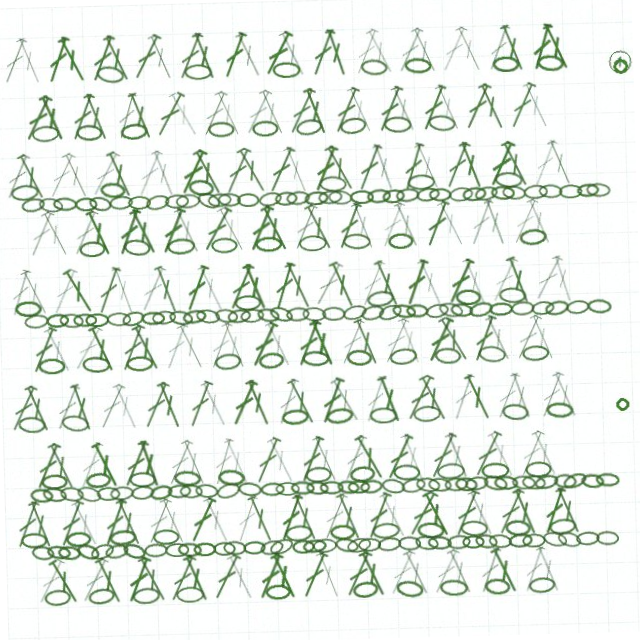chain: (102, 59, 132, 79), (300, 117, 329, 137), (58, 407, 87, 427), (388, 581, 417, 601), (268, 303, 295, 324), (557, 477, 584, 498), (83, 535, 110, 556), (262, 535, 289, 556), (344, 117, 373, 136), (388, 349, 417, 368), (80, 581, 109, 600), (199, 187, 225, 208), (69, 535, 95, 556), (377, 304, 404, 324), (71, 478, 98, 498), (550, 536, 577, 556), (433, 117, 461, 136), (191, 175, 219, 194), (125, 233, 153, 252), (367, 291, 395, 310), (477, 349, 505, 368), (323, 407, 351, 426), (14, 176, 43, 194), (498, 176, 527, 194), (432, 582, 461, 600), (211, 478, 237, 498), (115, 536, 141, 556), (345, 581, 372, 600), (367, 60, 395, 78), (543, 60, 571, 78), (213, 350, 241, 368), (433, 350, 461, 368), (15, 408, 43, 426), (499, 408, 527, 426), (169, 466, 197, 484), (213, 466, 241, 484), (411, 524, 439, 542), (543, 524, 571, 542), (125, 582, 153, 600), (521, 582, 549, 600), (342, 304, 368, 323), (438, 304, 464, 323), (468, 304, 494, 323), (478, 478, 504, 497), (536, 536, 562, 555), (366, 524, 395, 541), (103, 176, 130, 194), (257, 350, 284, 368), (345, 466, 372, 484), (499, 524, 526, 542), (477, 582, 504, 600), (125, 118, 153, 135), (389, 118, 417, 135), (169, 234, 197, 251), (345, 234, 373, 251), (521, 234, 549, 251), (499, 292, 527, 309), (81, 350, 109, 367), (543, 408, 571, 425), (433, 466, 461, 483), (103, 524, 131, 541), (279, 524, 307, 541), (121, 304, 146, 323), (41, 189, 67, 207), (148, 189, 174, 207), (168, 305, 194, 323), (360, 305, 386, 323), (544, 305, 570, 323), (376, 479, 402, 497), (396, 479, 422, 497), (529, 479, 555, 497), (98, 537, 124, 555), (253, 537, 279, 555), (328, 537, 354, 555), (340, 537, 366, 555), (411, 60, 438, 77), (37, 118, 64, 135), (81, 118, 108, 135), (323, 176, 350, 193), (301, 350, 328, 367), (345, 350, 372, 367), (279, 408, 306, 425), (411, 408, 438, 425), (81, 466, 108, 483), (301, 466, 328, 483), (389, 466, 416, 483), (455, 524, 482, 541), (37, 582, 64, 599), (91, 189, 116, 207), (261, 189, 286, 207), (477, 189, 502, 207), (256, 305, 281, 323), (425, 305, 450, 323), (144, 479, 169, 497), (191, 61, 219, 77), (279, 61, 307, 77), (411, 177, 439, 193), (301, 235, 329, 251), (367, 409, 395, 425), (477, 467, 505, 483), (169, 583, 197, 599), (195, 305, 221, 322), (391, 305, 417, 322), (37, 479, 63, 496), (408, 537, 434, 554), (499, 61, 526, 77), (213, 119, 240, 135), (257, 119, 284, 135), (81, 235, 108, 251), (213, 235, 240, 251), (257, 235, 284, 251), (15, 293, 42, 309), (235, 293, 262, 309), (37, 351, 64, 367), (125, 351, 152, 367), (521, 351, 548, 367), (37, 467, 64, 483), (125, 467, 152, 483), (521, 467, 548, 483), (15, 525, 42, 541), (147, 525, 174, 541), (24, 189, 49, 206), (419, 189, 444, 206), (182, 305, 207, 322), (214, 305, 239, 322), (55, 479, 80, 496), (233, 479, 258, 496), (411, 479, 436, 496), (460, 479, 485, 496), (40, 537, 65, 554), (468, 537, 493, 554), (390, 235, 416, 251), (456, 293, 482, 309), (60, 525, 86, 541), (324, 525, 350, 541), (258, 583, 284, 599), (25, 537, 49, 554), (307, 190, 332, 206), (331, 190, 356, 206), (452, 190, 477, 206), (465, 190, 490, 206), (505, 190, 530, 206), (24, 306, 49, 322), (59, 306, 84, 322), (227, 306, 252, 322), (240, 306, 265, 322), (302, 306, 327, 322), (105, 480, 130, 496), (423, 480, 448, 496), (507, 480, 532, 496), (517, 480, 542, 496), (171, 538, 196, 554), (296, 538, 321, 554), (371, 538, 396, 554), (421, 538, 446, 554), (385, 190, 409, 206), (450, 306, 474, 322), (531, 306, 555, 322), (566, 306, 590, 322), (25, 480, 49, 496), (126, 480, 150, 496), (190, 480, 214, 496), (301, 480, 325, 496), (332, 480, 356, 496), (355, 480, 379, 496), (450, 480, 474, 496), (576, 480, 600, 496), (51, 538, 75, 554), (482, 538, 506, 554), (112, 190, 137, 205), (289, 190, 314, 205), (321, 190, 346, 205), (589, 190, 614, 205), (587, 306, 612, 321), (489, 480, 514, 495), (502, 538, 527, 553), (56, 190, 80, 205), (168, 190, 192, 205), (179, 190, 203, 205), (211, 190, 235, 205), (370, 190, 394, 205), (399, 190, 423, 205), (494, 190, 518, 205), (527, 190, 551, 205), (542, 190, 566, 205), (152, 306, 176, 321), (286, 306, 310, 321), (511, 306, 535, 321), (163, 480, 187, 495), (286, 480, 310, 495), (549, 480, 573, 495), (591, 480, 615, 495), (307, 538, 331, 553), (441, 538, 465, 553), (570, 538, 594, 553), (221, 190, 244, 205), (278, 190, 301, 205), (580, 190, 603, 205), (46, 306, 69, 321), (406, 306, 429, 321), (217, 538, 240, 553), (392, 538, 415, 553), (590, 538, 613, 553), (353, 191, 377, 205), (562, 191, 586, 205), (73, 307, 97, 321), (85, 307, 109, 321), (107, 307, 131, 321), (141, 307, 165, 321), (322, 307, 346, 321), (489, 307, 513, 321), (92, 481, 116, 495), (256, 481, 280, 495), (271, 481, 295, 495), (315, 481, 339, 495), (440, 481, 464, 495), (138, 539, 162, 553), (159, 539, 183, 553), (516, 539, 540, 553), (78, 191, 101, 205), (131, 191, 154, 205), (240, 191, 263, 205), (432, 191, 455, 205), (175, 481, 198, 495), (343, 481, 366, 495), (187, 539, 210, 553), (207, 539, 230, 553), (237, 539, 260, 553), (286, 539, 309, 553), (352, 539, 375, 553), (456, 539, 479, 553)
double: (267, 28, 304, 77), (157, 86, 194, 135), (171, 86, 208, 135), (91, 144, 128, 193), (201, 202, 238, 251), (61, 260, 98, 309), (311, 260, 348, 309), (531, 260, 568, 309), (69, 318, 106, 367), (435, 318, 472, 367), (325, 376, 362, 425), (399, 492, 436, 541), (39, 550, 76, 599), (246, 86, 282, 136), (194, 144, 230, 194), (136, 28, 172, 77), (238, 144, 274, 193), (326, 144, 362, 193), (400, 376, 436, 425), (348, 434, 384, 483), (466, 434, 502, 483), (26, 550, 62, 599), (70, 550, 106, 599), (128, 550, 164, 599), (202, 550, 238, 599), (62, 28, 97, 78), (370, 28, 405, 78), (400, 28, 435, 78), (444, 28, 479, 78), (26, 86, 61, 136), (290, 86, 325, 136), (466, 86, 501, 136), (18, 144, 53, 194), (48, 144, 83, 194), (180, 144, 215, 194), (268, 144, 303, 194), (502, 144, 537, 194), (40, 202, 75, 252), (216, 202, 251, 252), (260, 202, 295, 252), (304, 202, 339, 252), (436, 202, 471, 252), (510, 202, 545, 252), (18, 260, 53, 310), (444, 260, 479, 310), (488, 260, 523, 310), (40, 318, 75, 368), (128, 318, 163, 368), (246, 318, 281, 368), (378, 318, 413, 368), (422, 318, 457, 368), (510, 318, 545, 368), (4, 376, 39, 426), (92, 376, 127, 426), (282, 376, 317, 426), (414, 376, 449, 426), (260, 434, 295, 484), (378, 434, 413, 484), (422, 434, 457, 484), (180, 492, 215, 542), (414, 492, 449, 542), (488, 492, 523, 542), (158, 550, 193, 600), (334, 550, 369, 600), (378, 550, 413, 600), (422, 550, 457, 600), (107, 28, 141, 78), (239, 28, 273, 78), (283, 28, 317, 78), (459, 28, 493, 78), (547, 28, 581, 78), (203, 86, 237, 136), (335, 86, 369, 136), (511, 86, 545, 136), (137, 144, 171, 194), (225, 144, 259, 194), (489, 144, 523, 194), (27, 202, 61, 252), (71, 202, 105, 252), (129, 202, 163, 252), (173, 202, 207, 252), (49, 260, 83, 310), (137, 260, 171, 310), (195, 260, 229, 310), (225, 260, 259, 310), (173, 318, 207, 368), (261, 318, 295, 368), (481, 318, 515, 368), (137, 376, 171, 426), (195, 376, 229, 426), (225, 376, 259, 426), (459, 376, 493, 426), (27, 434, 61, 484), (41, 434, 75, 484), (85, 434, 119, 484), (115, 434, 149, 484), (159, 434, 193, 484), (247, 434, 281, 484), (481, 434, 515, 484), (511, 434, 545, 484), (63, 492, 97, 542), (371, 492, 405, 542), (459, 492, 493, 542), (85, 550, 119, 600), (217, 550, 251, 600), (291, 550, 325, 600), (349, 550, 383, 600), (393, 550, 427, 600), (481, 550, 515, 600), (5, 28, 38, 78), (151, 28, 184, 78), (181, 28, 214, 78), (357, 28, 390, 78), (415, 28, 448, 78), (41, 86, 74, 136), (217, 86, 250, 136), (261, 86, 294, 136), (349, 86, 382, 136), (379, 86, 412, 136), (393, 86, 426, 136), (423, 86, 456, 136), (437, 86, 470, 136), (481, 86, 514, 136), (525, 86, 558, 136), (5, 144, 38, 194), (63, 144, 96, 194), (107, 144, 140, 194), (313, 144, 346, 194), (357, 144, 390, 194), (415, 144, 448, 194), (445, 144, 478, 194), (533, 144, 566, 194), (85, 202, 118, 252), (159, 202, 192, 252), (247, 202, 280, 252), (291, 202, 324, 252), (379, 202, 412, 252), (393, 202, 426, 252), (283, 260, 316, 310), (327, 260, 360, 310), (357, 260, 390, 310), (415, 260, 448, 310), (27, 318, 60, 368), (85, 318, 118, 368), (335, 318, 368, 368), (19, 376, 52, 426), (49, 376, 82, 426), (107, 376, 140, 426), (489, 376, 522, 426), (533, 376, 566, 426), (547, 376, 580, 426), (71, 434, 104, 484), (217, 434, 250, 484), (305, 434, 338, 484), (335, 434, 368, 484), (525, 434, 558, 484), (107, 492, 140, 542), (137, 492, 170, 542), (151, 492, 184, 542), (195, 492, 228, 542), (239, 492, 272, 542), (313, 492, 346, 542), (357, 492, 390, 542), (445, 492, 478, 542), (547, 492, 580, 542), (173, 550, 206, 600), (247, 550, 280, 600), (261, 550, 294, 600), (437, 550, 470, 600), (20, 28, 52, 78), (94, 28, 126, 78), (226, 28, 258, 78), (314, 28, 346, 78), (490, 28, 522, 78), (504, 28, 536, 78), (72, 86, 104, 136), (86, 86, 118, 136), (130, 86, 162, 136), (284, 144, 316, 194), (548, 144, 580, 194), (336, 202, 368, 252), (424, 202, 456, 252), (468, 202, 500, 252), (526, 202, 558, 252), (182, 260, 214, 310), (240, 260, 272, 310), (372, 260, 404, 310), (460, 260, 492, 310), (116, 318, 148, 368), (160, 318, 192, 368), (204, 318, 236, 368), (292, 318, 324, 368), (306, 318, 338, 368), (350, 318, 382, 368), (468, 318, 500, 368), (526, 318, 558, 368), (182, 376, 214, 426), (240, 376, 272, 426), (314, 376, 346, 426), (174, 434, 206, 484), (292, 434, 324, 484), (438, 434, 470, 484), (6, 492, 38, 542), (50, 492, 82, 542), (270, 492, 302, 542), (284, 492, 316, 542), (328, 492, 360, 542), (504, 492, 536, 542), (116, 550, 148, 600), (526, 550, 558, 600), (50, 28, 81, 78), (196, 28, 227, 78), (306, 86, 337, 136), (152, 144, 183, 194), (460, 144, 491, 194), (116, 202, 147, 252), (350, 202, 381, 252), (94, 260, 125, 310), (152, 260, 183, 310), (402, 260, 433, 310), (504, 260, 535, 310), (218, 318, 249, 368), (394, 318, 425, 368), (152, 376, 183, 426), (358, 376, 389, 426), (372, 376, 403, 426), (446, 376, 477, 426), (394, 434, 425, 484), (20, 492, 51, 542), (94, 492, 125, 542), (226, 492, 257, 542), (534, 492, 565, 542), (306, 550, 337, 600), (468, 550, 499, 600), (512, 550, 543, 600), (373, 144, 403, 194), (483, 202, 513, 252), (109, 260, 139, 310), (271, 376, 301, 426), (329, 28, 358, 78), (535, 28, 564, 78), (403, 144, 432, 194), (7, 260, 36, 310), (271, 260, 300, 310), (65, 376, 94, 426), (505, 376, 534, 426), (131, 434, 160, 484), (205, 434, 234, 484), (118, 86, 146, 136), (550, 260, 578, 310)
noise: (613, 56, 640, 84), (618, 65, 637, 84), (613, 405, 628, 420)
